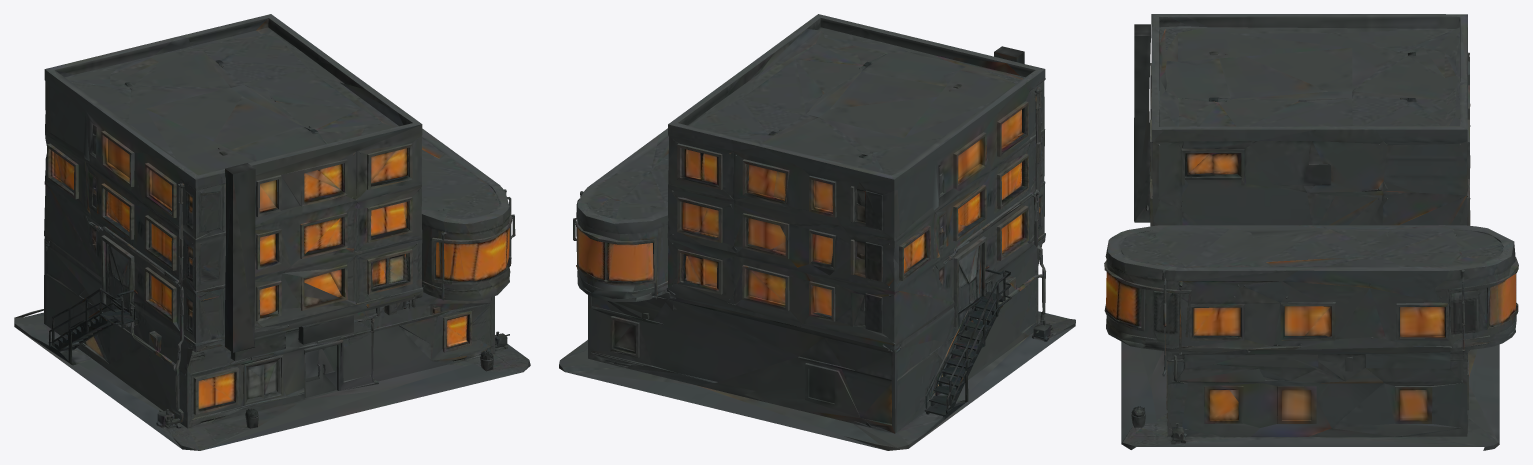
File: mx_bld_hotel.glb
The picture shows the model from 3 angles, left to right: view 1: azimuth 30°, elevation 25°; view 2: azimuth 150°, elevation 25°; view 3: azimuth 270°, elevation 25°; orthographic projection. The views are drawn at different scales.
Size of the model in its own units: 1.9 by 1.35 by 1.85.
1 material, 1 textured.
